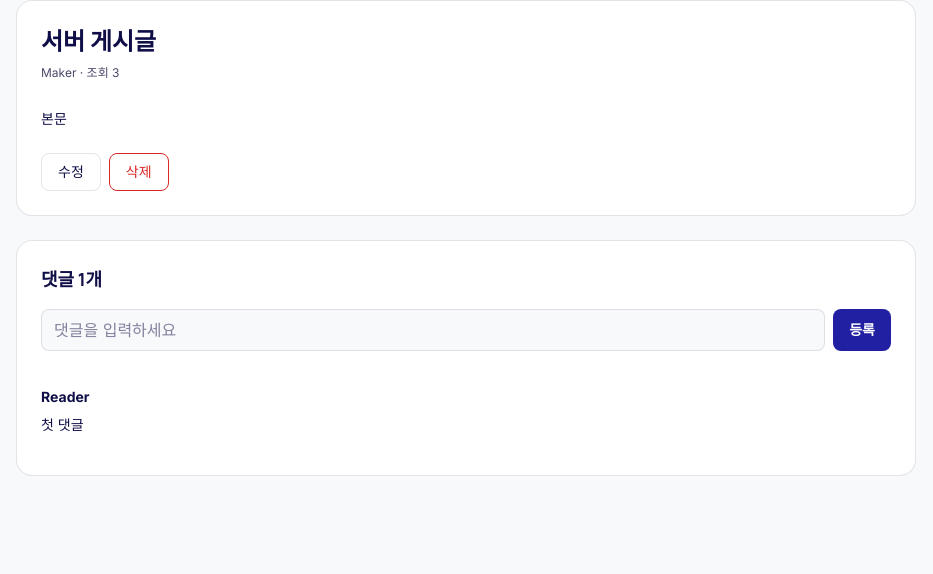
Scenario: CommunityPostDetailView › loads a post and persists a comment
Type "새 댓글" into the field named "댓글 내용". click: [433, 330]
box: [41, 309, 825, 351]
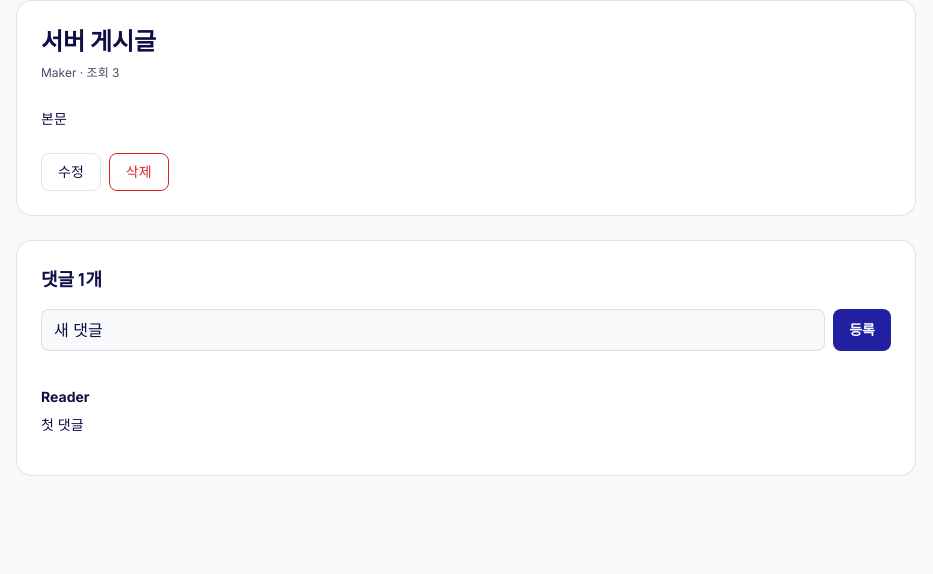
Submit the form, box [41, 309, 891, 351]
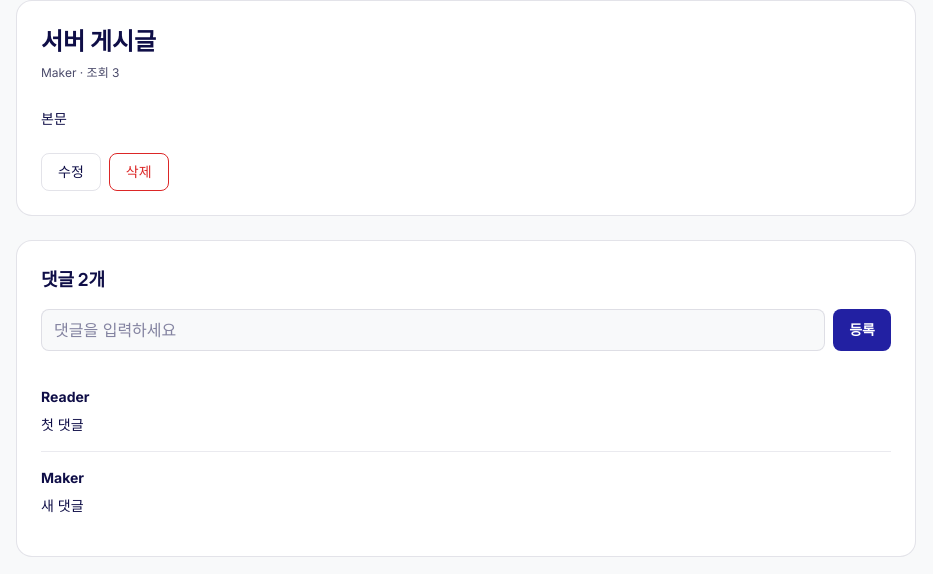
Check: the text "댓글 2개" is shown, box [41, 267, 105, 291]
